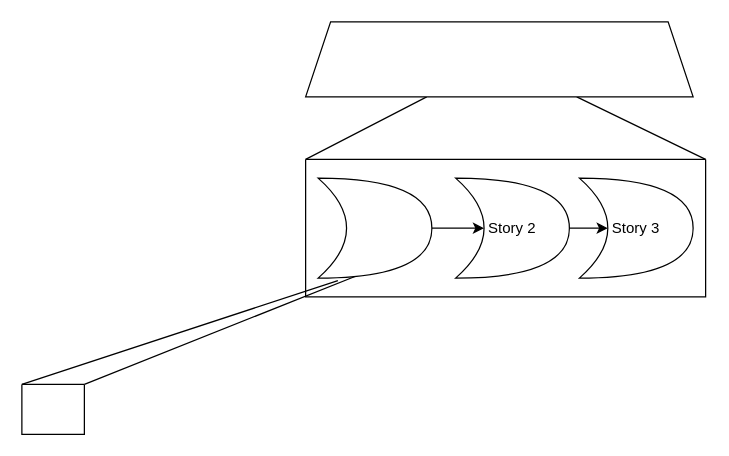
Some shapes in this 729 by 456 pixel diagram are drawn without their labels. Each missing label, with the centre of its shape:
"Scenario" goes at pixel 498 59.
"Story 1" goes at pixel 374 227.
